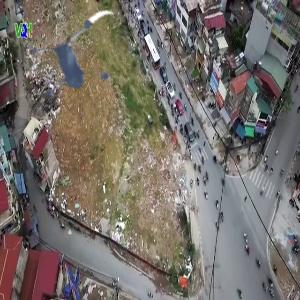drone: (19, 2, 147, 130)
